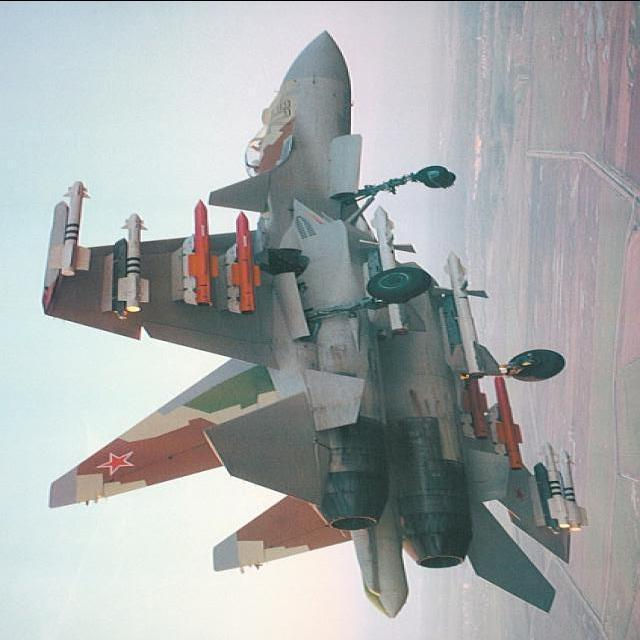missile: (442, 248, 488, 381), (538, 434, 592, 533), (230, 210, 274, 317), (485, 368, 530, 472), (116, 208, 160, 314), (187, 198, 220, 305), (59, 176, 90, 277)
